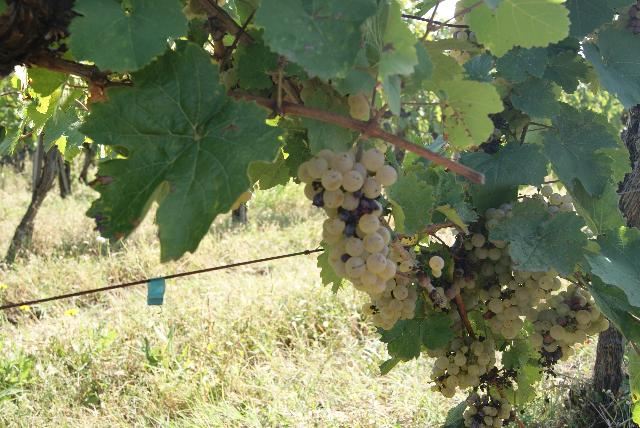grapes: (298, 149, 398, 288), (529, 291, 609, 361), (485, 271, 561, 339), (431, 339, 495, 398)
